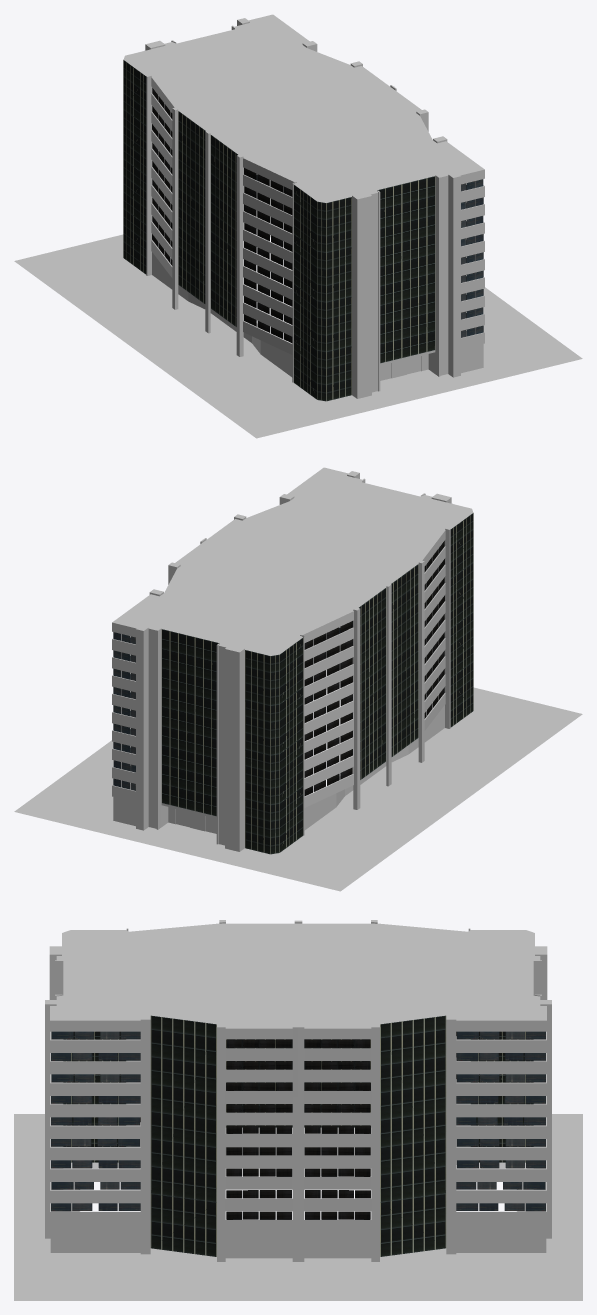
The picture shows the model from 3 angles, top to bottom: view 1: azimuth 30°, elevation 25°; view 2: azimuth 150°, elevation 25°; view 3: azimuth 270°, elevation 25°; orthographic projection. The views are drawn at different scales.
Visible parts, largest first — view 1: M-016; view 2: M-016; view 3: M-016.
Part boxes in pixels (x1=…): M-016: x1=14, y1=14, x2=582, y2=438; M-016: x1=14, y1=467, x2=582, y2=891; M-016: x1=14, y1=920, x2=582, y2=1300.
Size of what is drawn, in the model's own units: 56 by 32.76 by 72.
